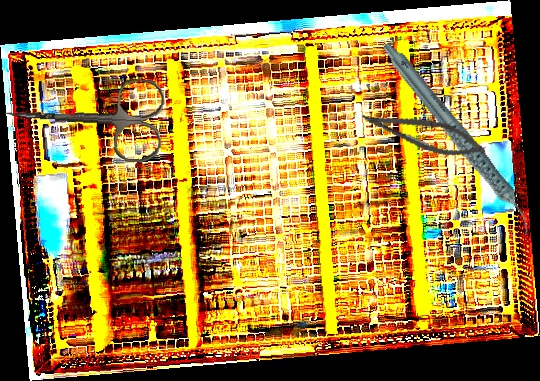Handpiece: (380, 21, 534, 257)
Iris Scissors: (1, 70, 166, 164)
Micro Scissor: (355, 104, 491, 165)
